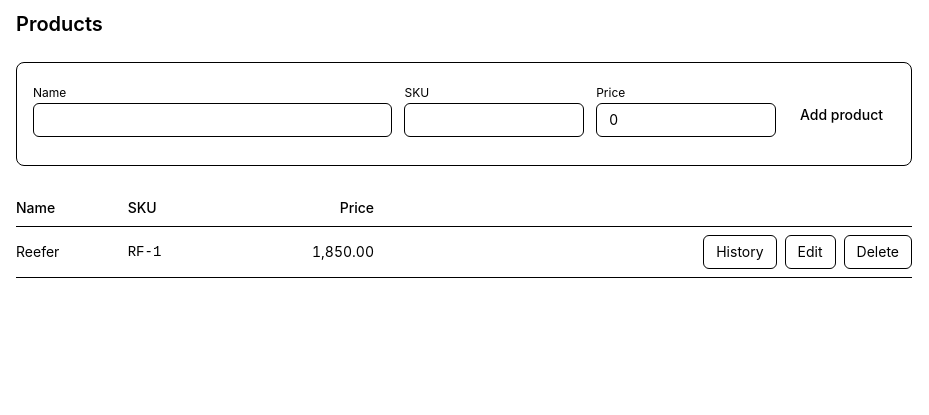
Test: ProductsPage › shows audit history
This screenshot has width=929, height=415.
Click the button "History" at (740, 252), box [703,235,777,269]
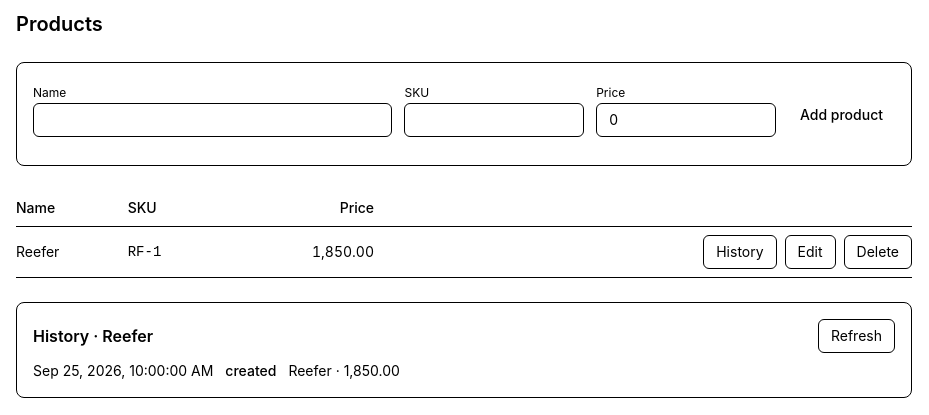
Check: the text "created" is shown, box [225,361,276,381]
